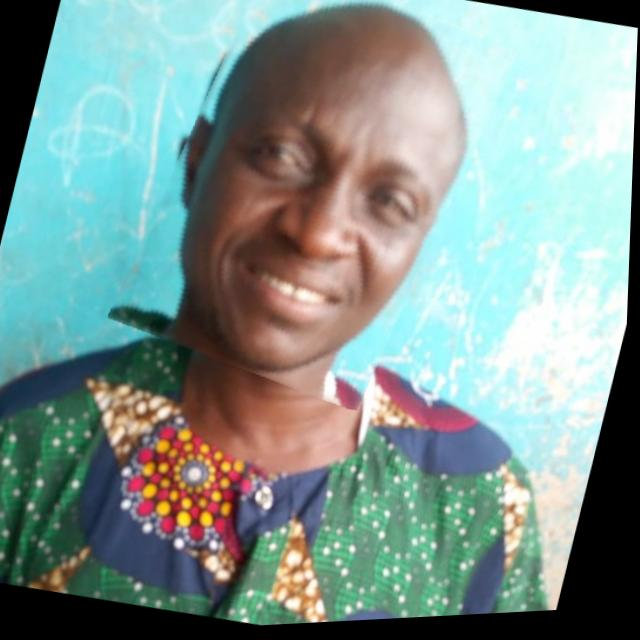happy: (112, 0, 512, 425)
